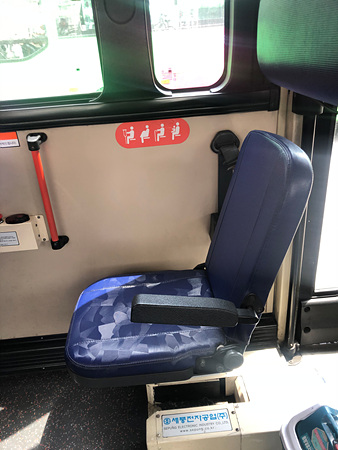seat: (68, 129, 305, 373)
